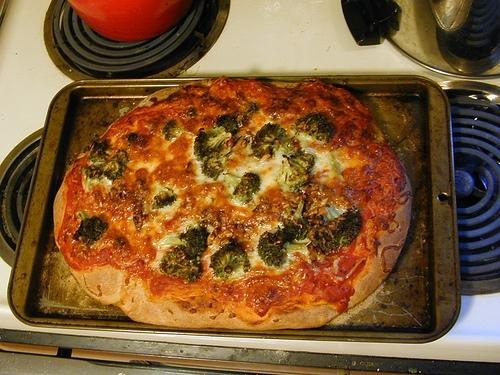broccoli: (312, 208, 363, 252), (257, 224, 308, 268), (201, 132, 242, 181), (164, 224, 210, 260), (192, 126, 232, 164), (282, 201, 316, 242), (72, 210, 110, 246), (210, 243, 250, 277), (252, 122, 287, 160), (222, 172, 262, 205), (294, 113, 334, 143), (275, 160, 311, 191), (142, 186, 178, 216), (103, 150, 129, 179), (282, 154, 314, 176), (87, 139, 112, 164), (80, 164, 104, 190), (214, 114, 239, 134), (162, 118, 182, 140), (126, 132, 140, 143)
